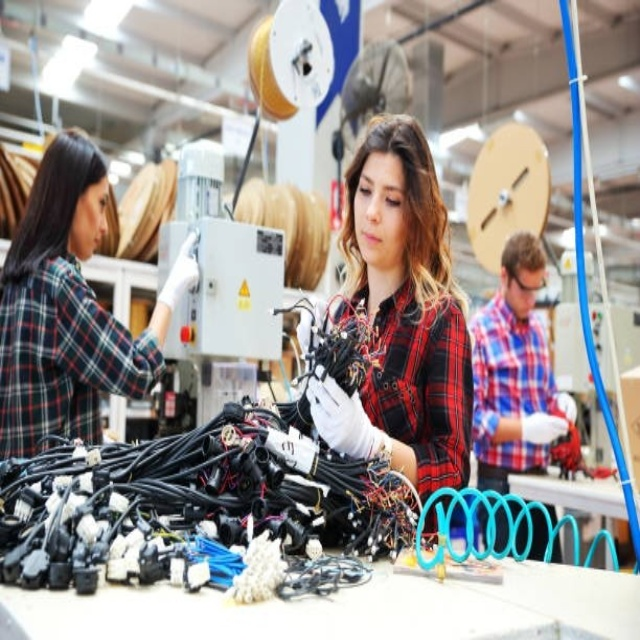Gafas: (508, 268, 551, 303)
Guantes: (305, 362, 376, 461), (153, 232, 204, 312), (518, 406, 570, 450)
Sin_gafas: (358, 168, 405, 215), (82, 188, 111, 216)
Sin_mascara: (357, 223, 388, 257), (76, 227, 106, 257)
